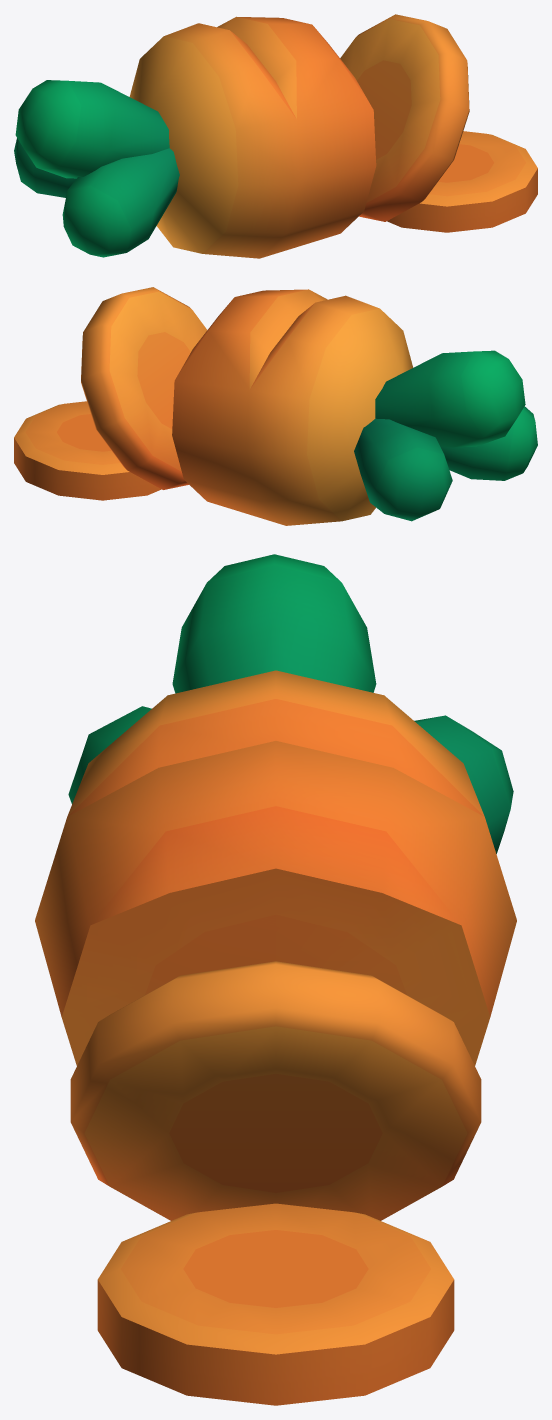
The model's file is Carrot cut.glb.
The picture shows the model from 3 angles, top to bottom: view 1: azimuth 30°, elevation 25°; view 2: azimuth 150°, elevation 25°; view 3: azimuth 270°, elevation 25°; orthographic projection. The views are drawn at different scales.
Visible parts, largest first — view 1: food_ingredient_carrot_chopped; view 2: food_ingredient_carrot_chopped; view 3: food_ingredient_carrot_chopped.
Boxes of the visible parts, x1,y1,x2,y2 form: food_ingredient_carrot_chopped: (14, 14, 537, 258); food_ingredient_carrot_chopped: (14, 287, 537, 525); food_ingredient_carrot_chopped: (35, 554, 516, 1405).
Bounding box in the file's own units: 1.33 × 0.5587 × 0.5663.
Materials: 1 (1 with a texture image).
